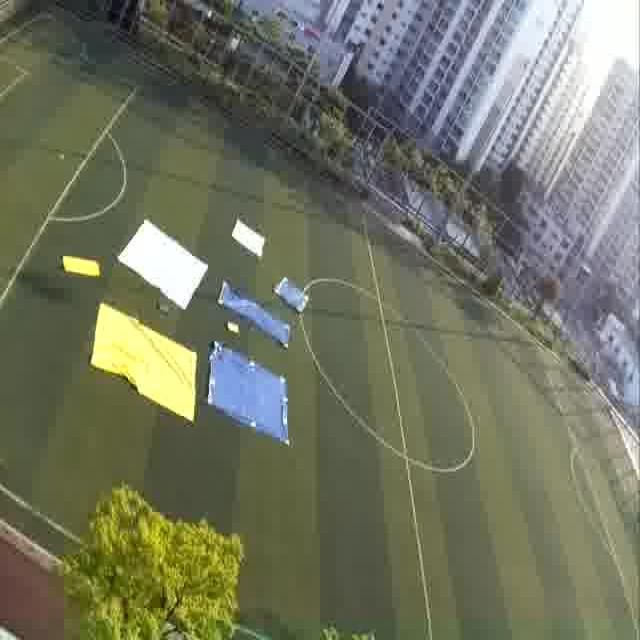danger: (211, 359, 288, 426), (217, 280, 259, 317), (277, 274, 312, 314)
safety: (134, 234, 204, 294), (231, 221, 266, 249)
warning: (98, 315, 197, 403), (63, 255, 102, 276)
